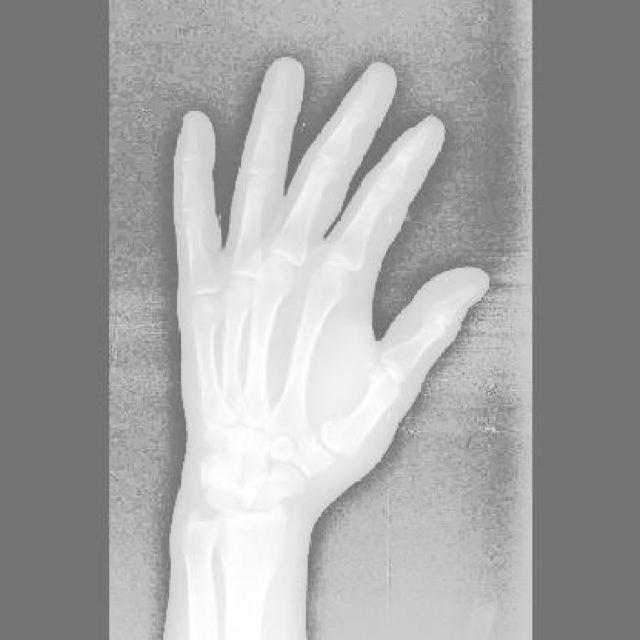Fracture: (323, 415, 357, 460)
